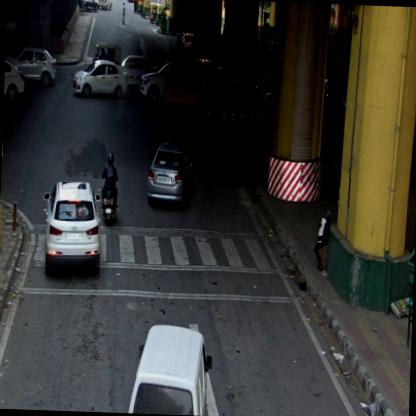car: (126, 326, 214, 416), (42, 178, 102, 274), (147, 142, 201, 211), (138, 62, 213, 108), (72, 58, 127, 98), (13, 46, 58, 86), (119, 54, 161, 87), (4, 60, 26, 101), (79, 0, 99, 13), (96, 0, 112, 14)
motorcycle: (102, 152, 119, 225)
